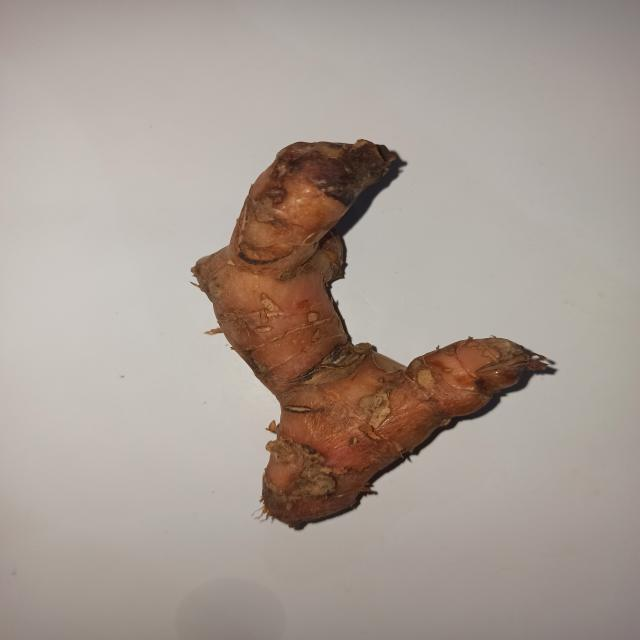ginger: (194, 154, 521, 504)
